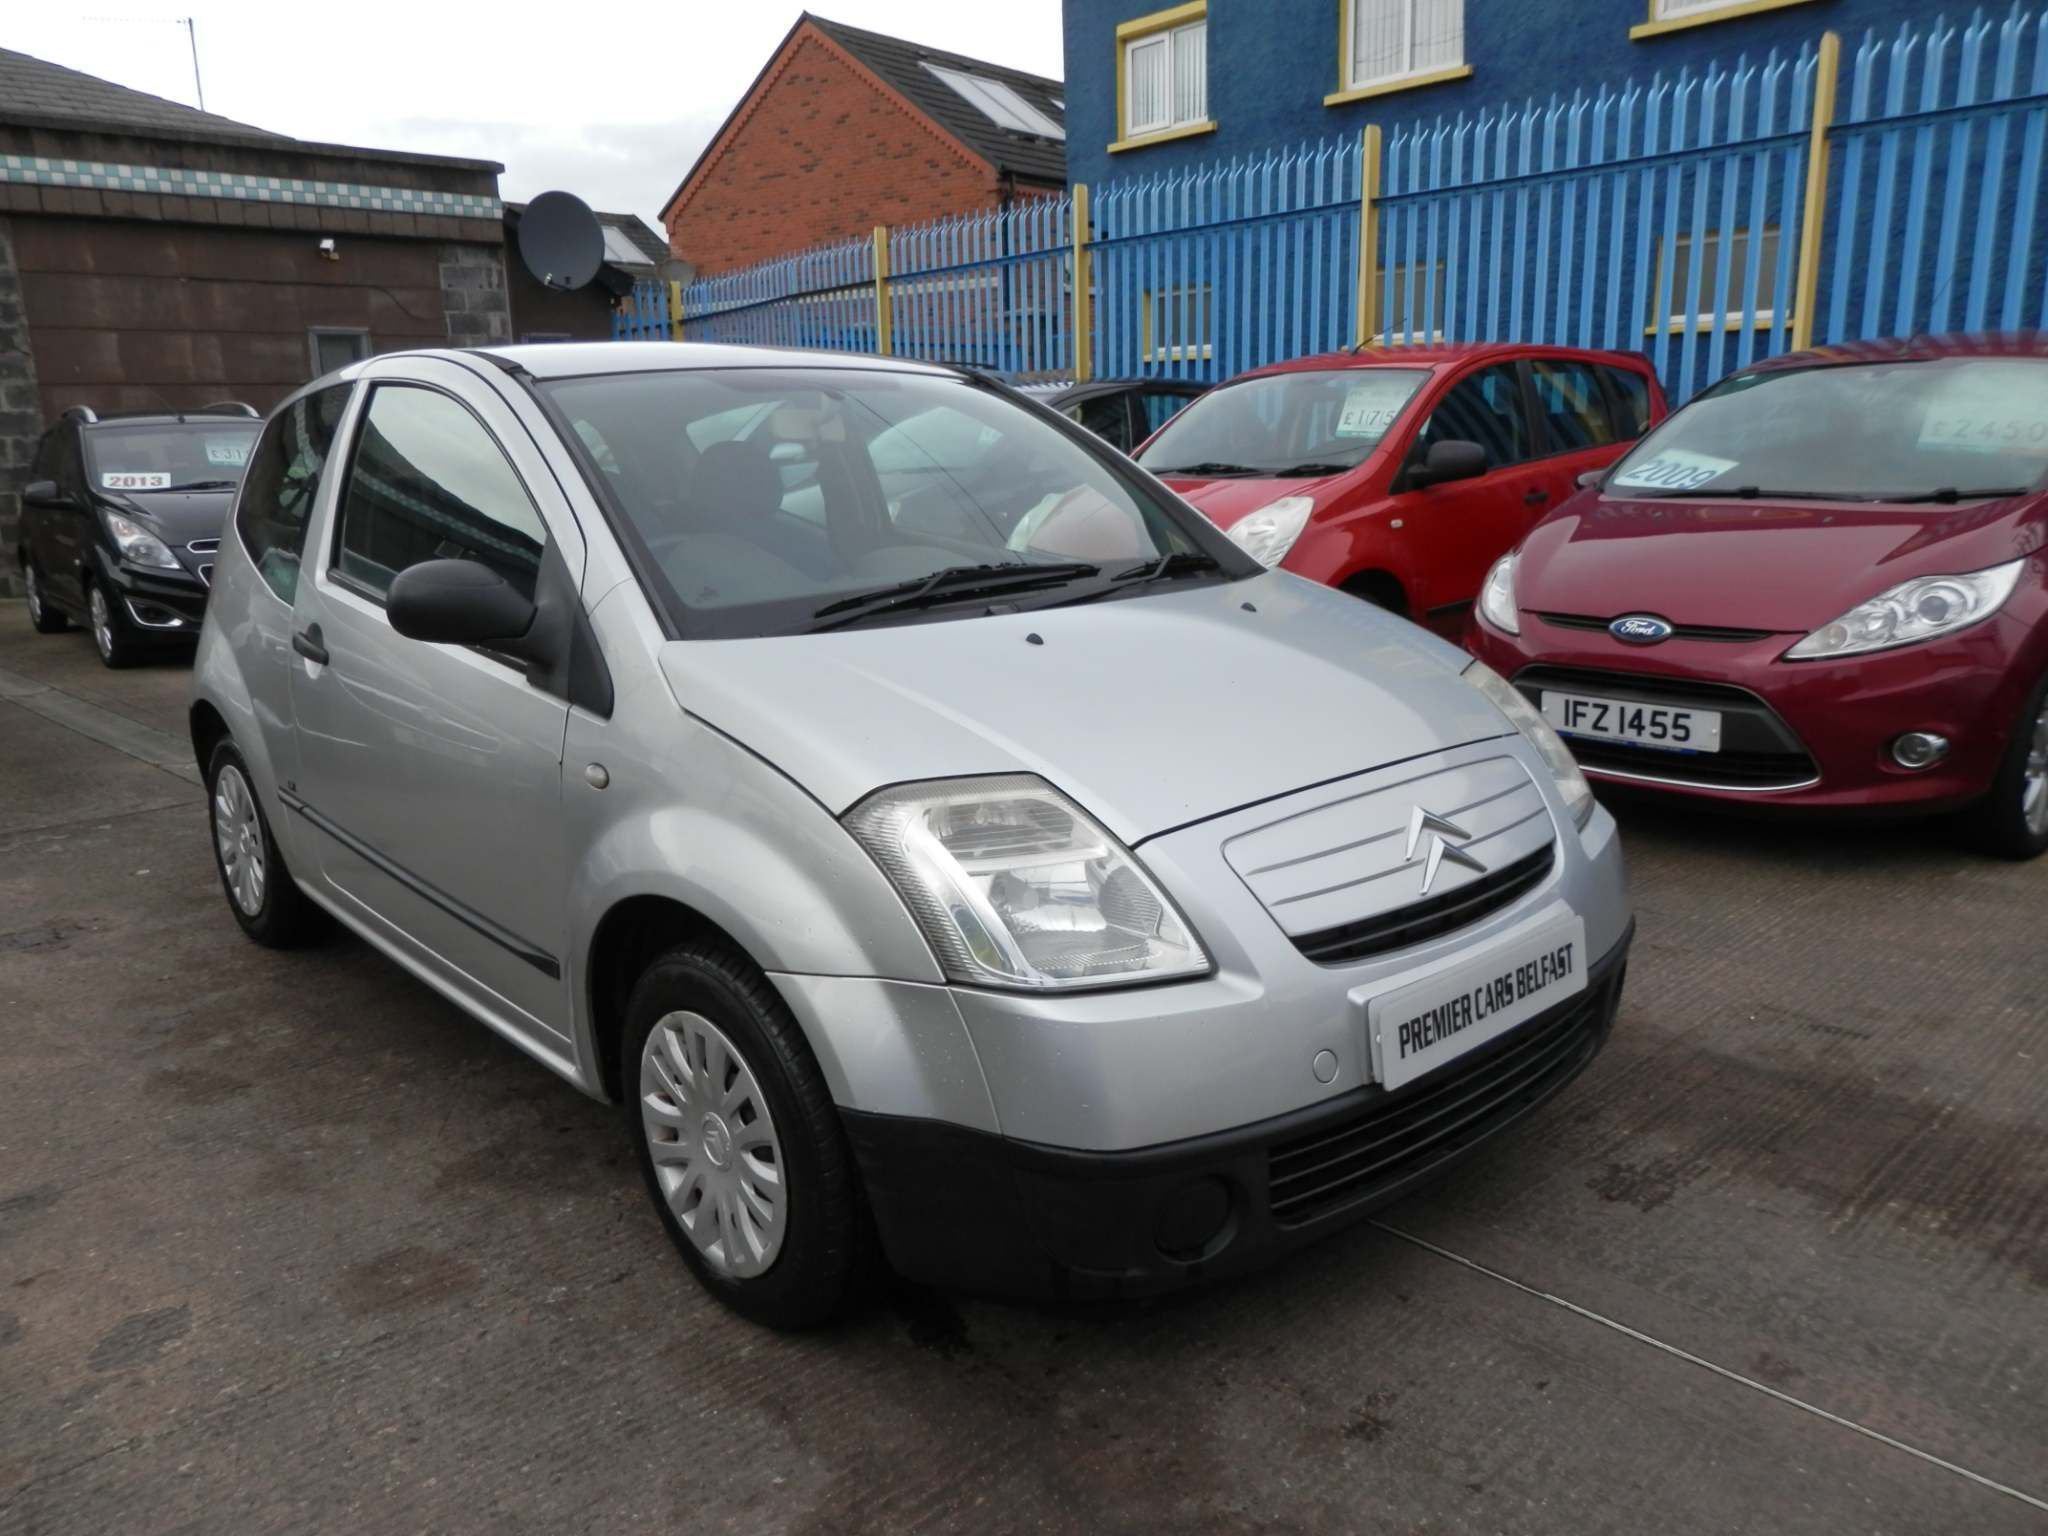car: (197, 323, 1630, 1302), (1505, 340, 2043, 855), (1119, 311, 1684, 589), (24, 369, 303, 666)
